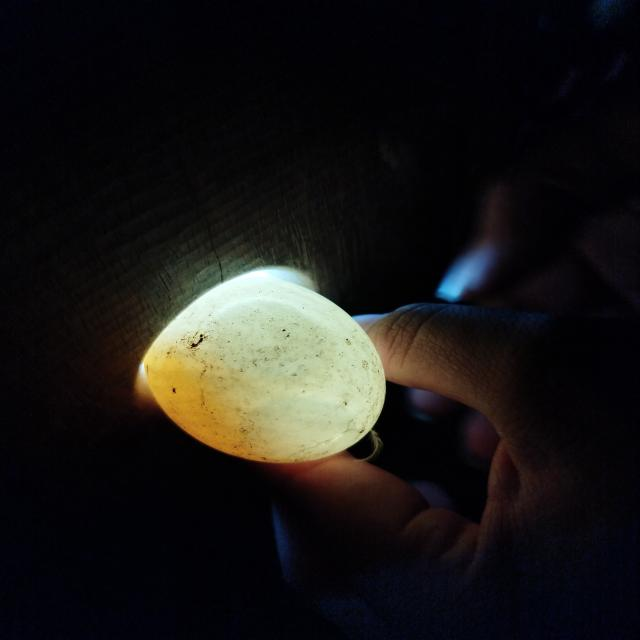Camara de Ar: (202, 301, 348, 394), (241, 394, 364, 464)
